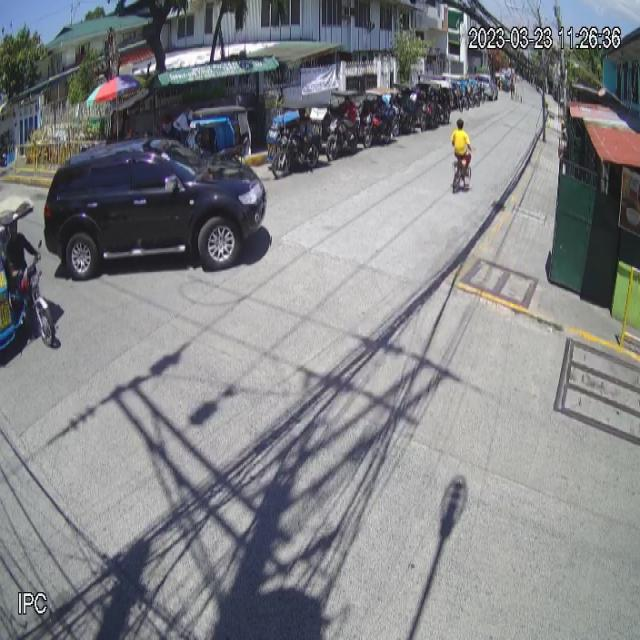Car: (43, 137, 268, 280)
Tricycle: (0, 195, 56, 357)
